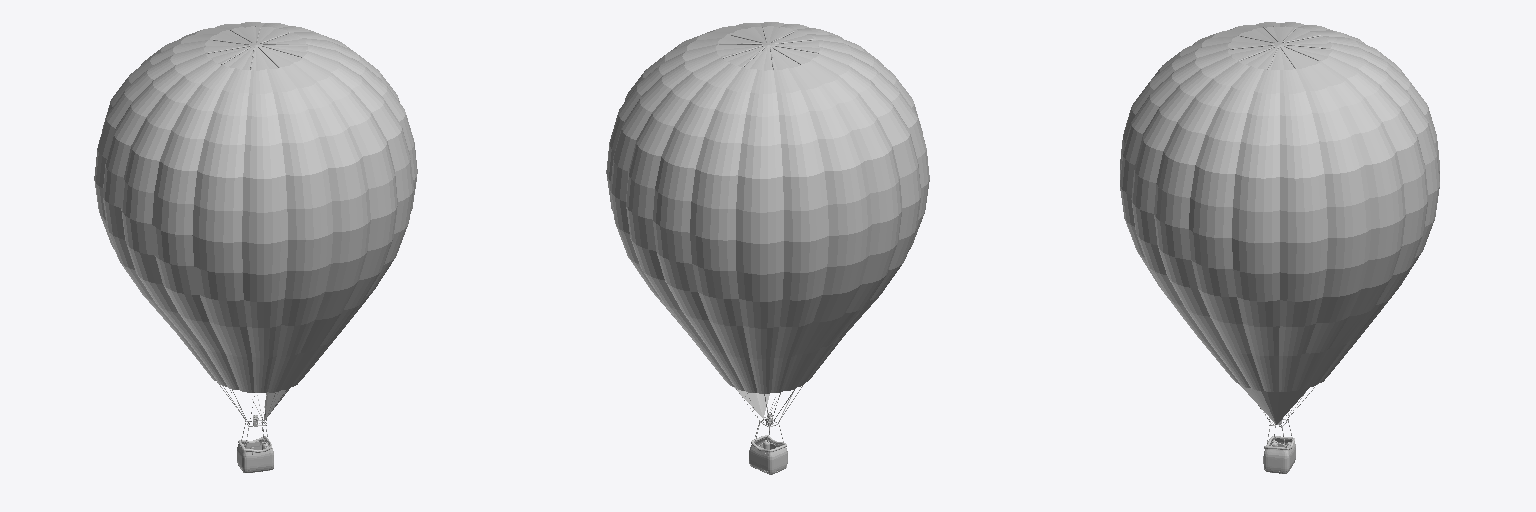
Rendered from ReducedTriangle.obj.
3 views of the same model, side by side, from view 1: azimuth 30°, elevation 25°; view 2: azimuth 150°, elevation 25°; view 3: azimuth 270°, elevation 25° (orthographic).
Parts seen in each view (by area): view 1: TheGetawayBALLOON2; view 2: TheGetawayBALLOON2; view 3: TheGetawayBALLOON2.
Boxes of the visible parts, box(x1,y1,x2,y2) form: TheGetawayBALLOON2: box(94, 22, 417, 472); TheGetawayBALLOON2: box(606, 22, 929, 474); TheGetawayBALLOON2: box(1120, 22, 1439, 473).
Bounding box in the file's own units: 0.4803 × 0.6991 × 0.4802.